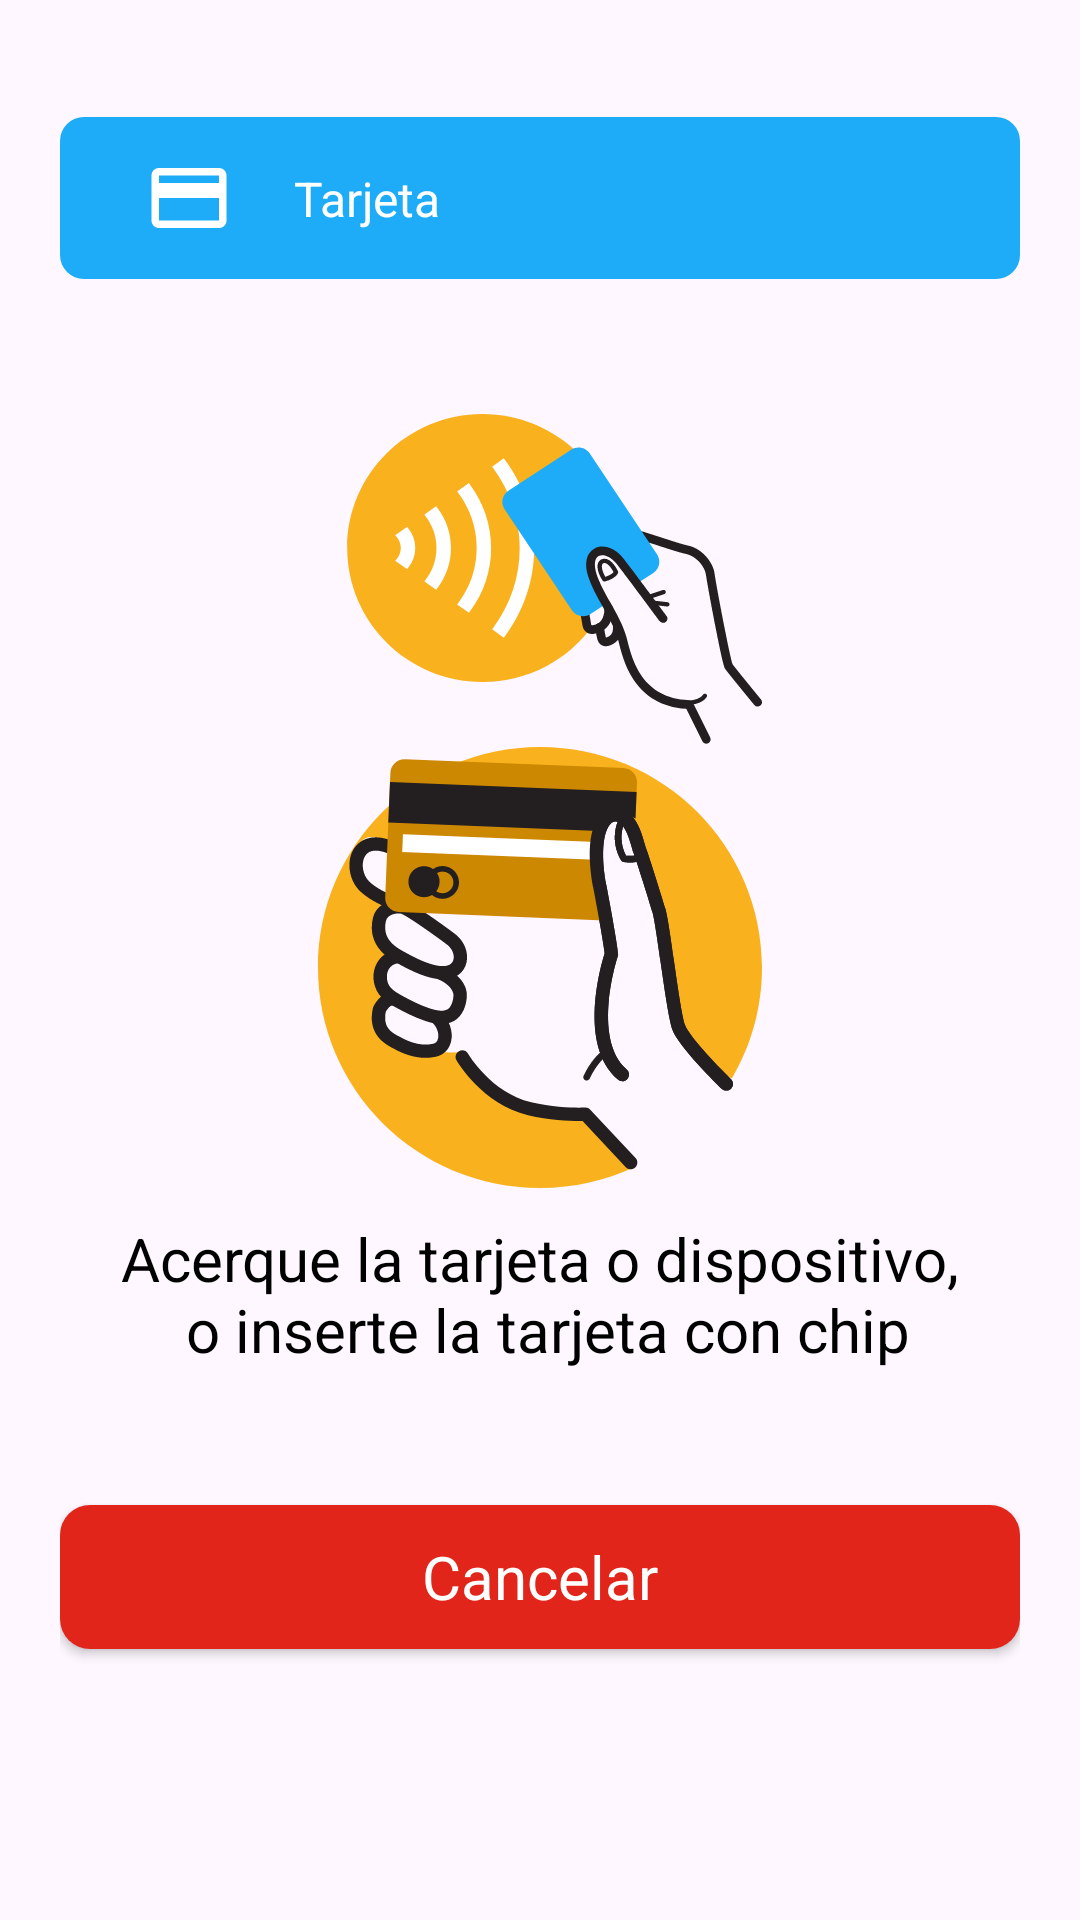

Where icons sit on this 1080×1920 app screen, as (x1, y1, x2, y2):
card: (151, 168, 227, 228)
